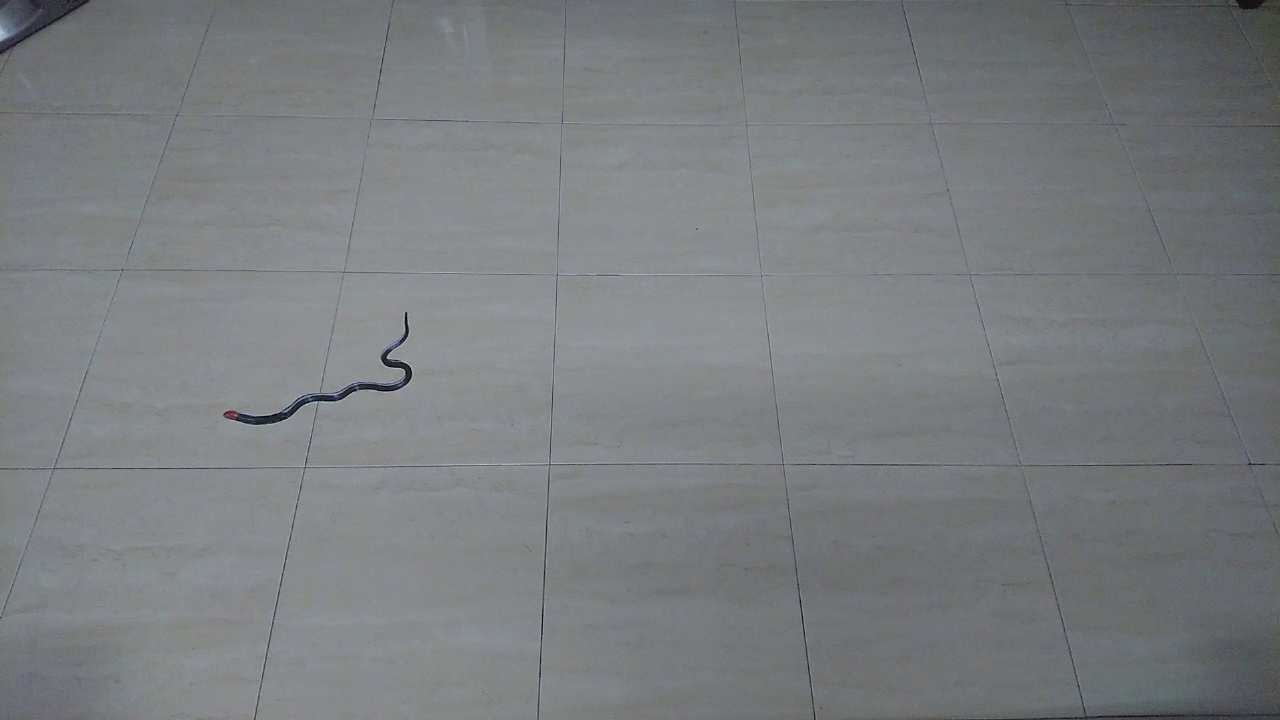snake: (209, 300, 427, 435)
